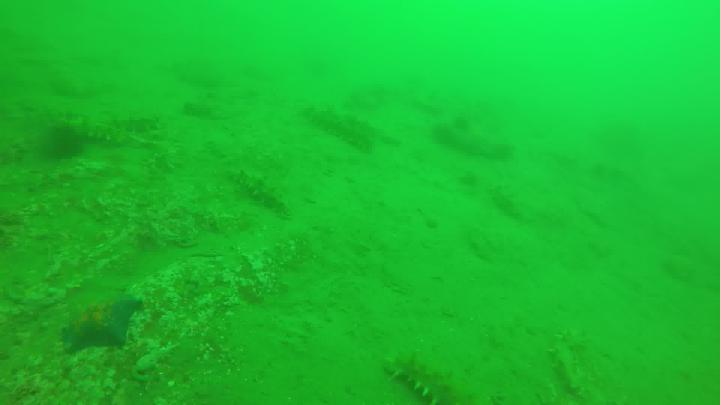holothurian: (387, 359, 490, 405), (306, 102, 386, 148), (235, 166, 297, 217), (45, 119, 140, 151), (550, 324, 592, 393), (80, 108, 157, 135)
starfish: (64, 300, 141, 349)
